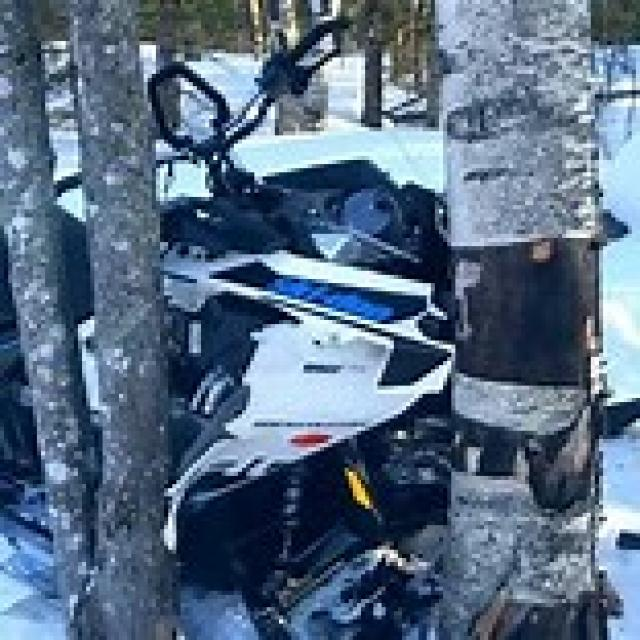Accident: (86, 103, 640, 630)
